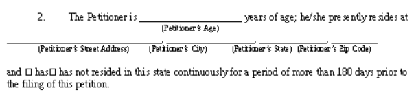checkbox: (25, 67, 33, 76), (48, 67, 56, 76)
textline: (5, 31, 163, 45), (138, 10, 243, 23), (165, 32, 256, 45), (257, 33, 328, 45), (330, 34, 378, 45)
